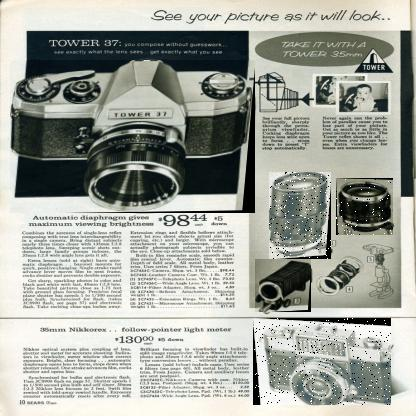Camera: (11, 61, 257, 215), (254, 319, 393, 407), (270, 174, 333, 262), (337, 179, 395, 237), (256, 260, 313, 314)
